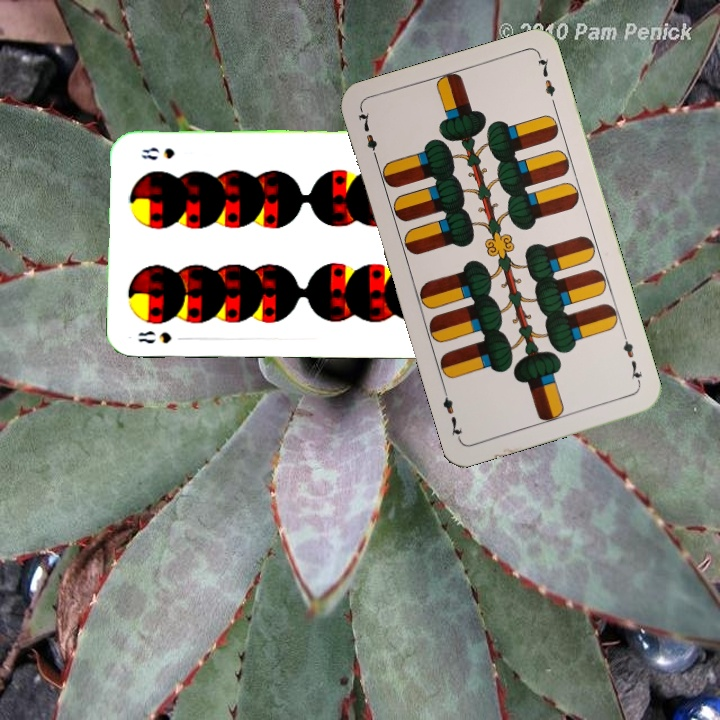E7: (618, 330, 645, 388), (354, 106, 381, 164)
S8: (134, 327, 174, 346)
